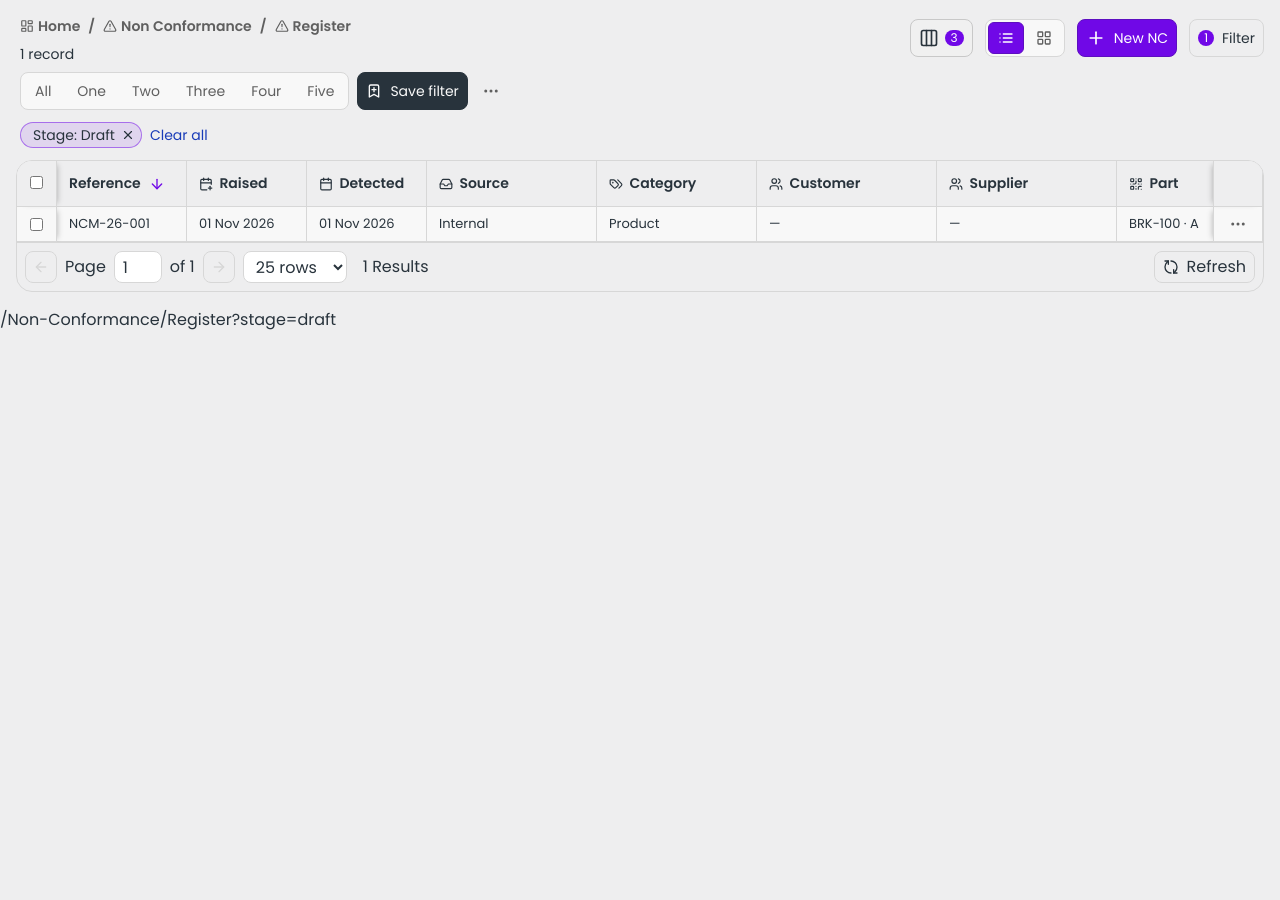
Test: NC registers › saved filters › stop at five: the dialog says so and will not save a new name, but a name in use can still be replaced
Check: the text "NCM-26-001" is shown, box [65, 214, 154, 234]
Click the button "Save filter" at (413, 91), box [357, 72, 468, 110]
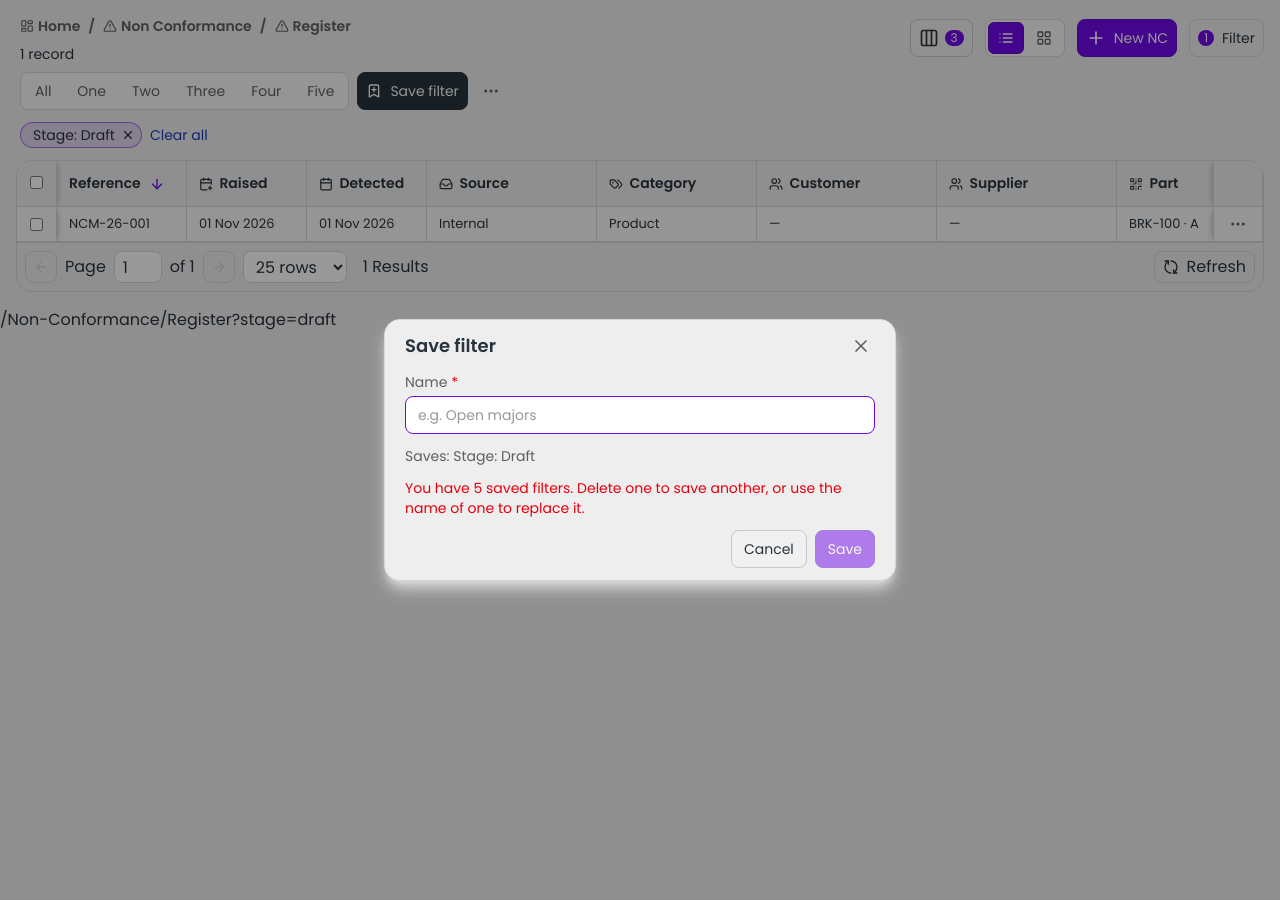
Type "Six" into the field labelled "Name" at (640, 415), box [405, 396, 875, 434]
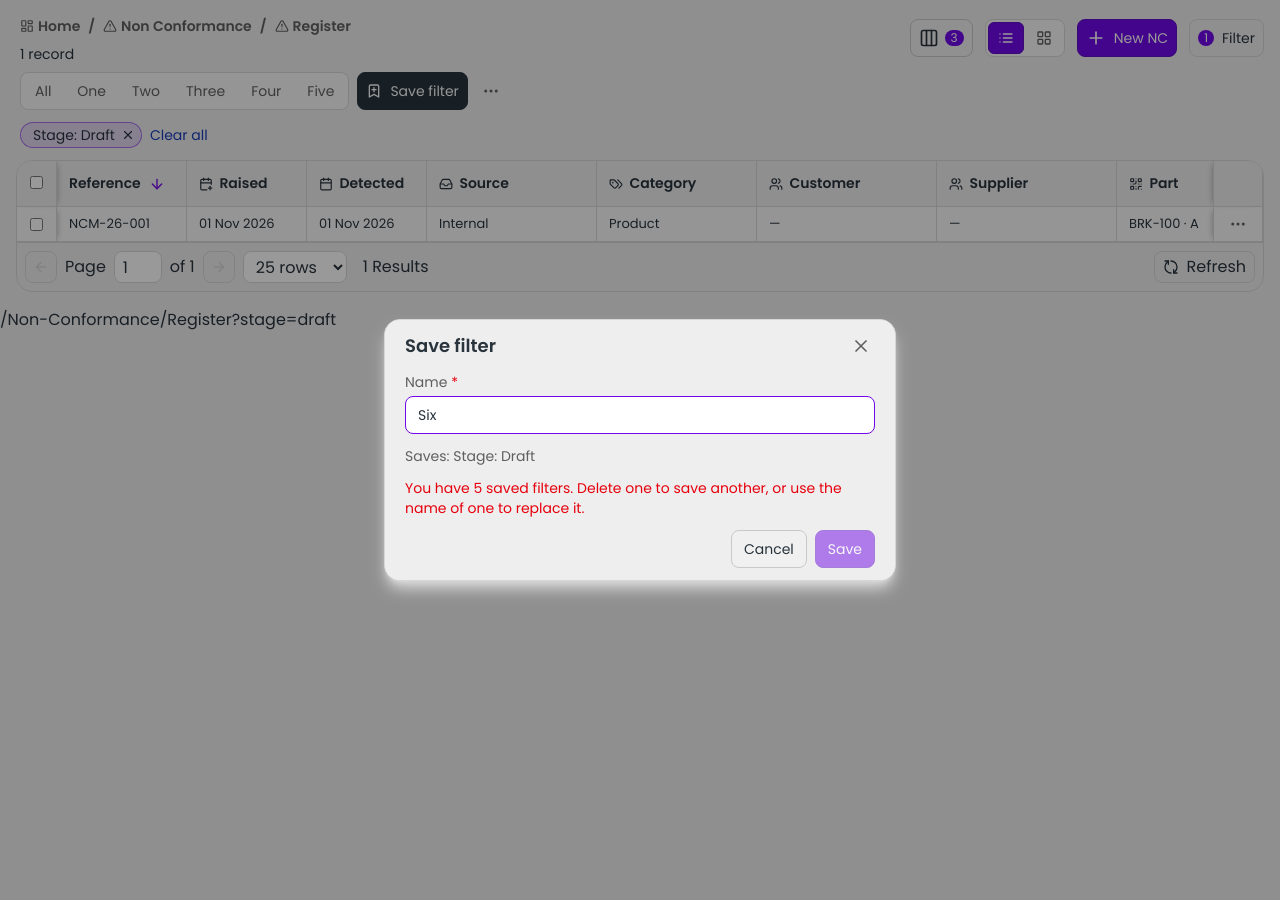
Check: the dialog "Save filter" shows "You have 5 saved filters", box [384, 319, 896, 581]
Check: the button "Save" is disabled, box [815, 530, 875, 568]
Replace the text in the field labelled "Name" with "Three" at (640, 415), box [405, 396, 875, 434]
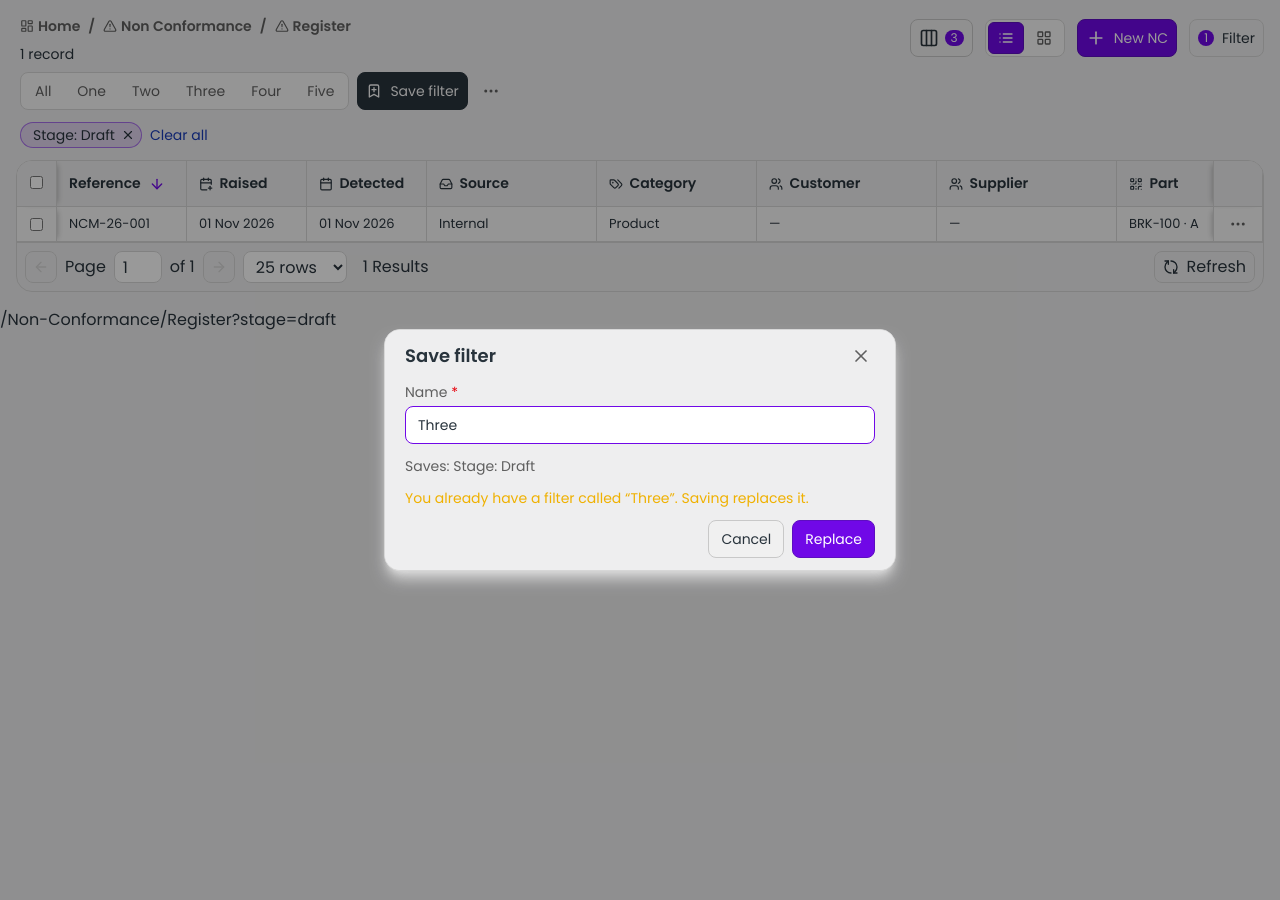
Check: the button "Replace" is enabled, box [792, 520, 875, 558]
